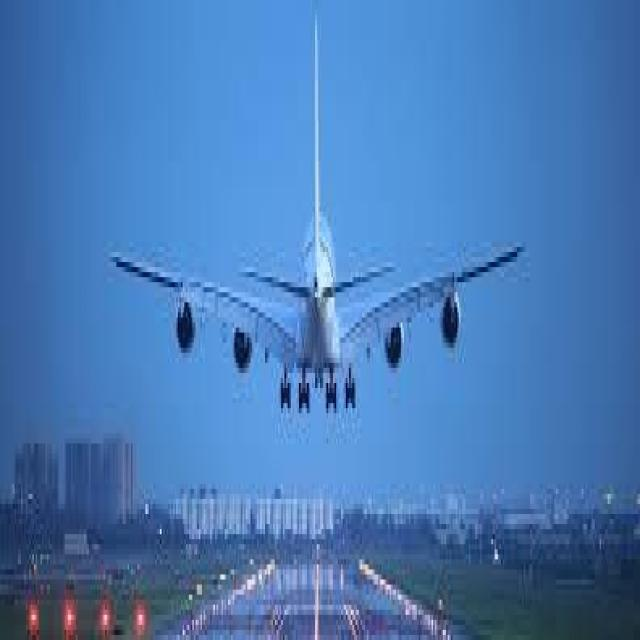Tanks: (108, 164, 542, 426)
